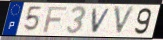3: (66, 5, 88, 35)
5: (22, 6, 43, 33)
9: (134, 7, 153, 35)
F: (42, 6, 69, 34)
V: (113, 5, 137, 37), (91, 7, 113, 34)
